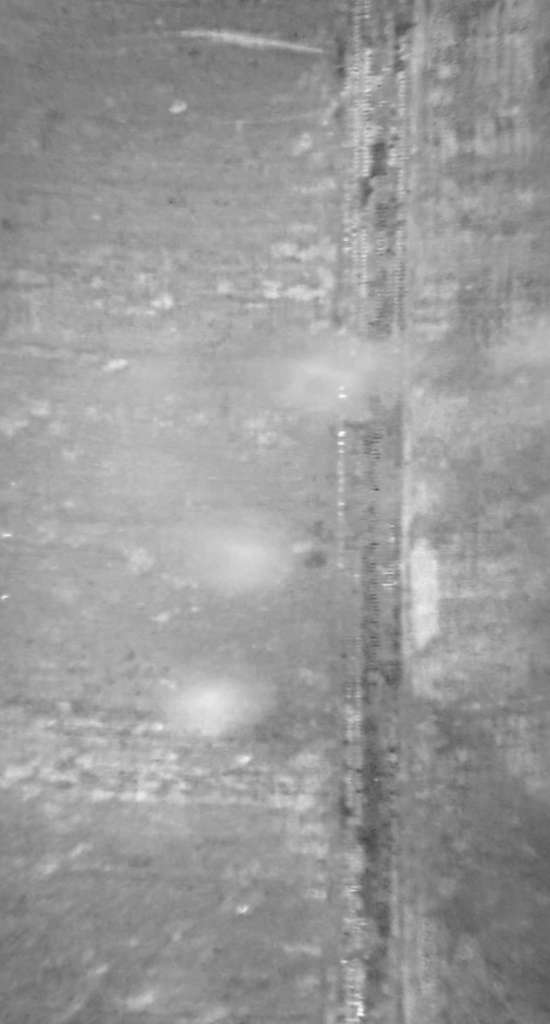splice: (334, 1, 416, 1024)
